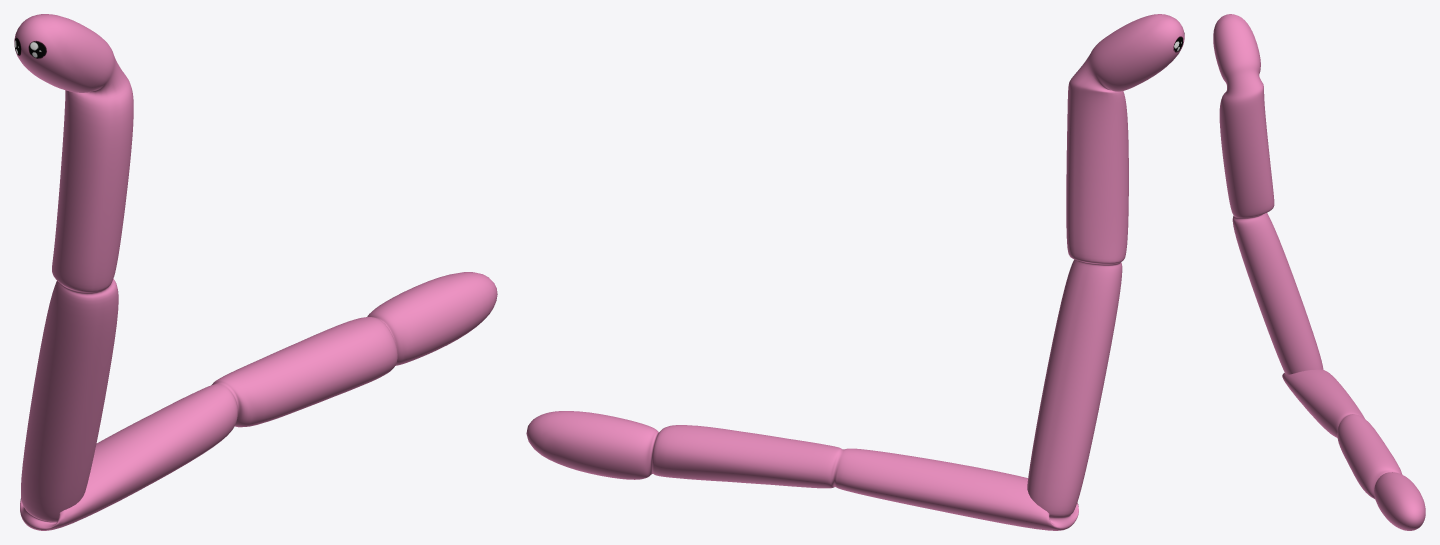
File: Worm_Custom.fbx
3 views of the same model, side by side, from view 1: azimuth 30°, elevation 25°; view 2: azimuth 150°, elevation 25°; view 3: azimuth 270°, elevation 25° (orthographic). The views are drawn at different scales.
Parts seen in each view (by area): view 1: Cube; view 2: Cube; view 3: Cube.
Part boxes in pixels (box(x1,y1,x2,y2)): Cube: box(14, 14, 497, 530); Cube: box(526, 14, 1184, 530); Cube: box(1213, 14, 1425, 530).
Bounding box in the file's own units: 477 × 419 × 228.
